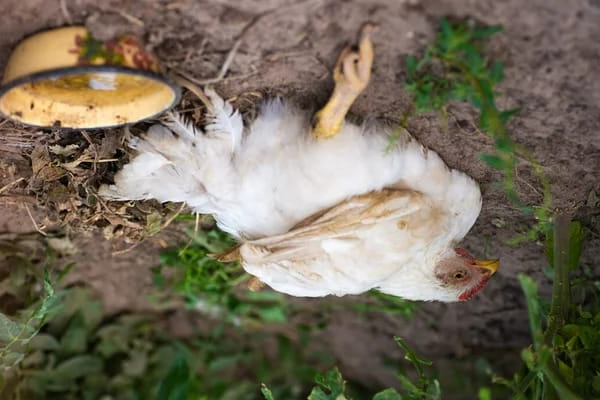Unhealthy: (96, 23, 506, 314)
